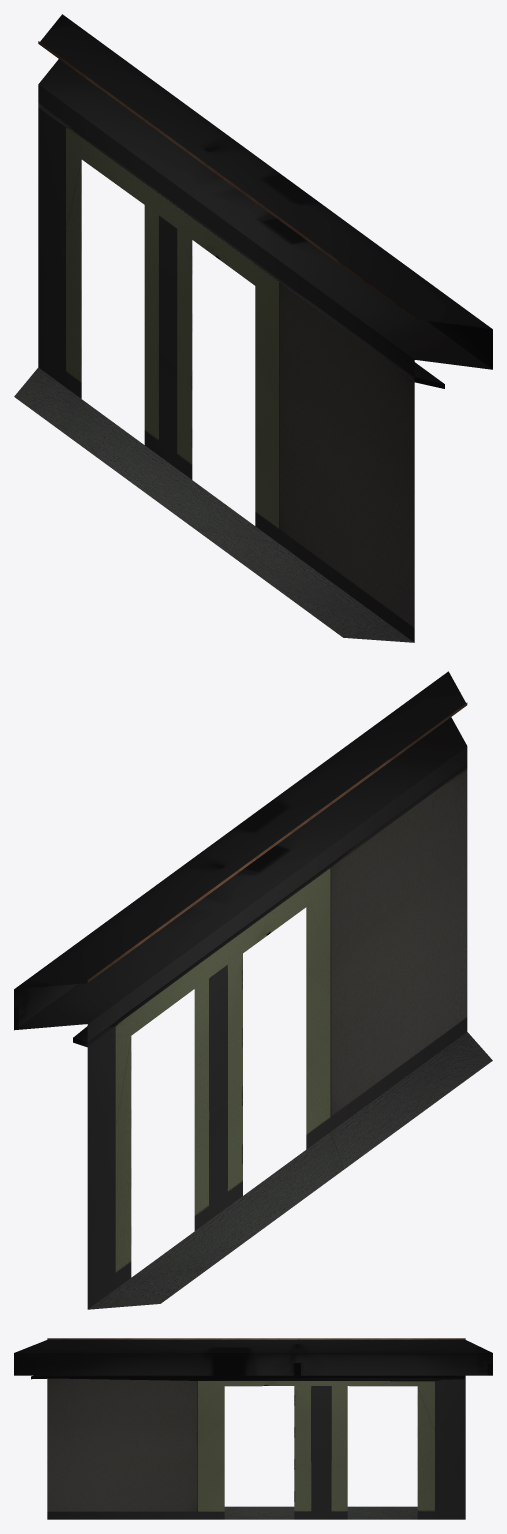
File: two door wall.obj
3 views of the same model, one above another, from view 1: azimuth 30°, elevation 25°; view 2: azimuth 150°, elevation 25°; view 3: azimuth 270°, elevation 25° (orthographic). The views are drawn at different scales.
Visible parts, largest first — view 1: Plane.016_Plane.019; view 2: Plane.016_Plane.019; view 3: Plane.016_Plane.019.
Part boxes in pixels (x1,y1,x2,y2): Plane.016_Plane.019: [14, 14, 492, 642]; Plane.016_Plane.019: [14, 671, 492, 1309]; Plane.016_Plane.019: [14, 1338, 492, 1519].
Size of the model in its own units: 1.1 by 3.54 by 8.46.
6 materials, 6 textured.
